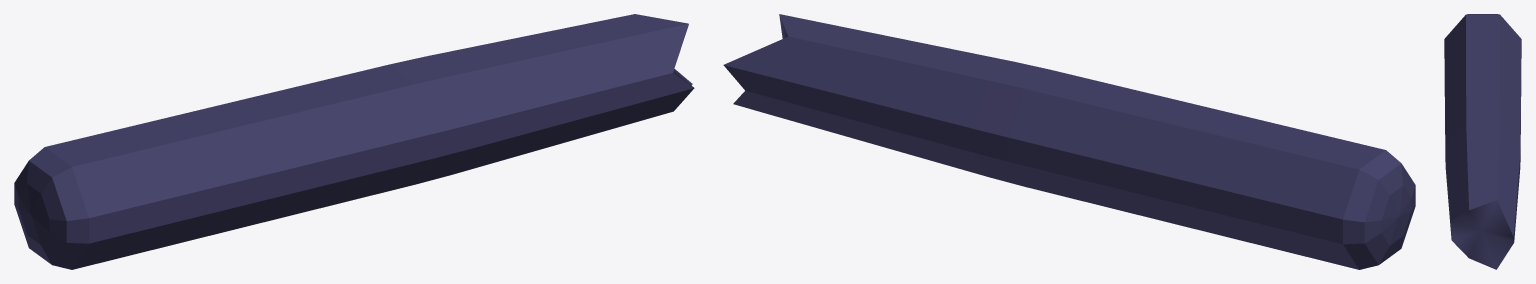
File: BateRotoArriba.fbx
The picture shows the model from 3 angles, left to right: view 1: azimuth 30°, elevation 25°; view 2: azimuth 150°, elevation 25°; view 3: azimuth 270°, elevation 25°; orthographic projection. The views are drawn at different scales.
Visible parts, largest first — view 1: RotoArriba; view 2: RotoArriba; view 3: RotoArriba.
Part boxes in pixels (bbox=[...]): RotoArriba: bbox=[14, 14, 694, 269]; RotoArriba: bbox=[723, 14, 1415, 269]; RotoArriba: bbox=[1444, 14, 1521, 269].
Size of the model in its own units: 32.47 by 4.75 by 5.14.
